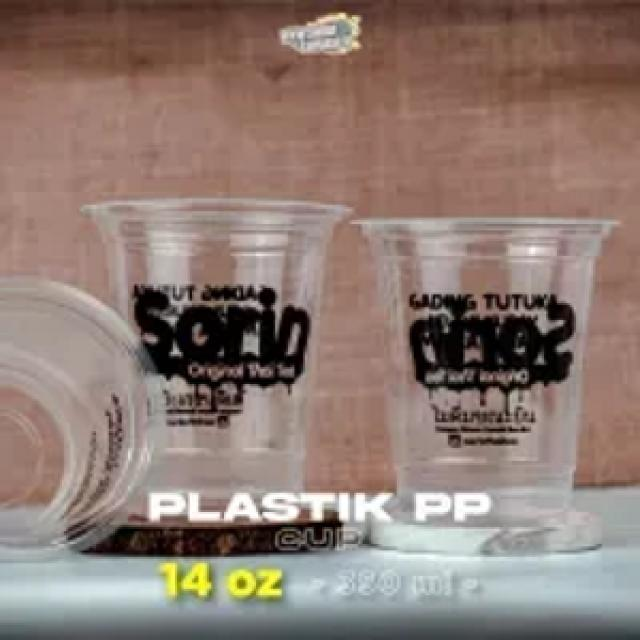plastic cup: (73, 196, 352, 523), (348, 207, 618, 527)
